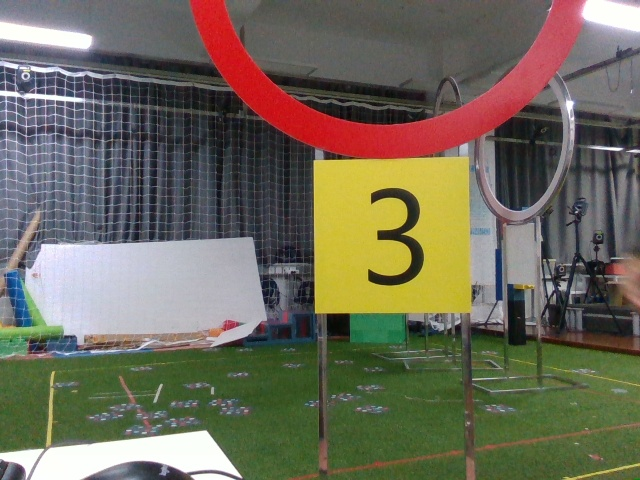target: (312, 162, 467, 310)
